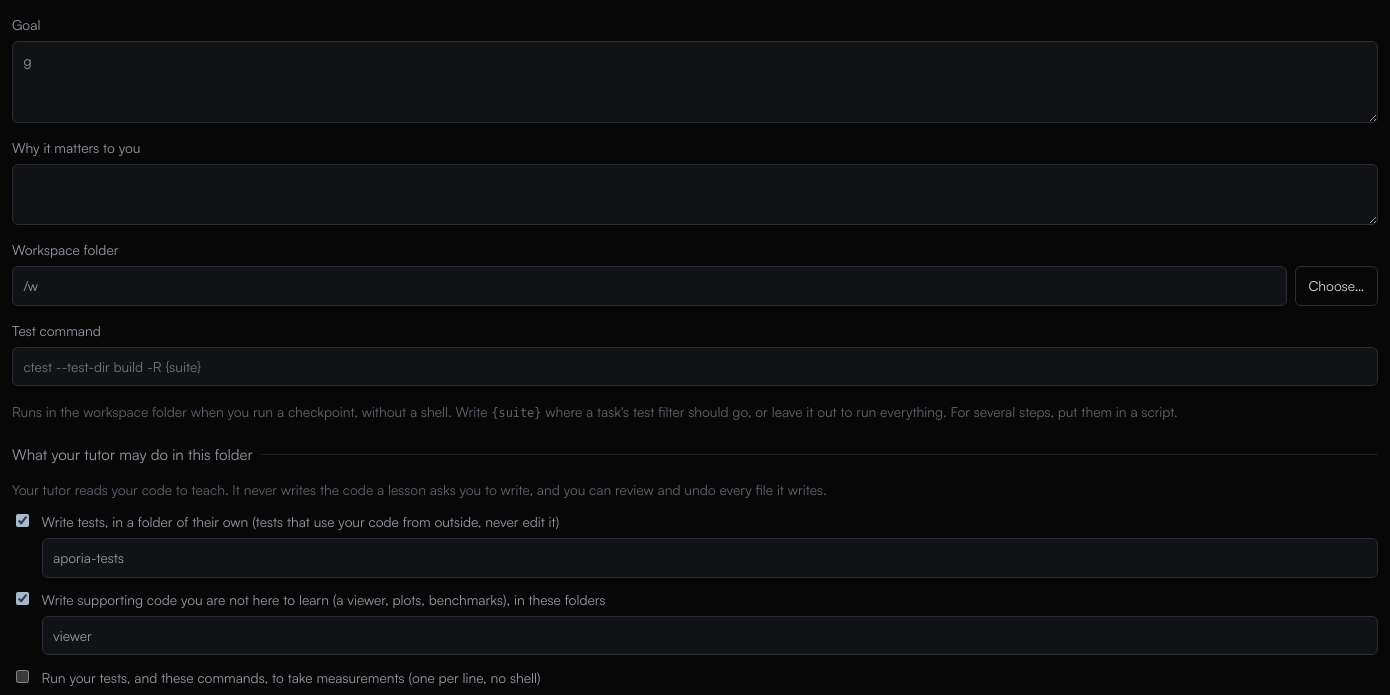
Test: what the tutor may do › is saved with the project settings
The image size is (1390, 695).
expect the field named "Tool folders" holds "viewer": met, box top-left (42, 616), bottom-right (1378, 655)
Click the checkbox labelled "Run your tests" at [22, 676], box top-left (16, 670), bottom-right (29, 682)
(page scrolled)
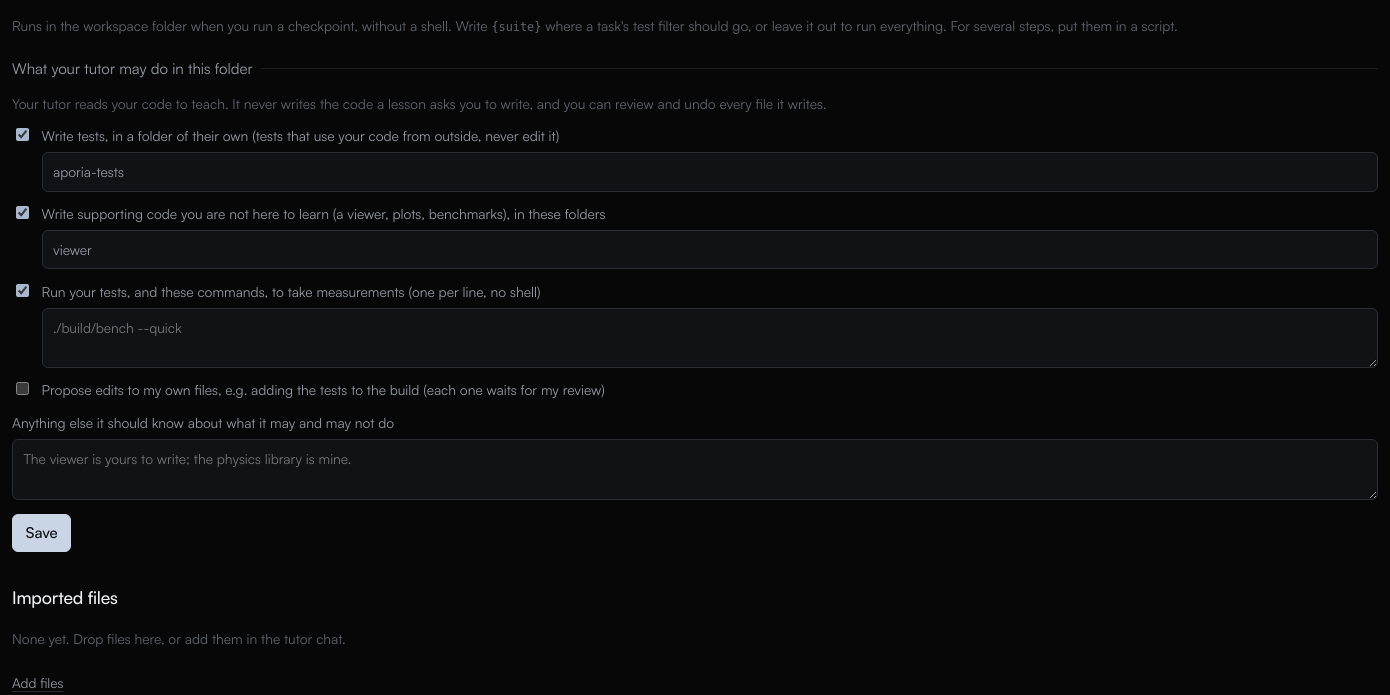
Click the button "Save" at [42, 533], box top-left (12, 514), bottom-right (71, 552)
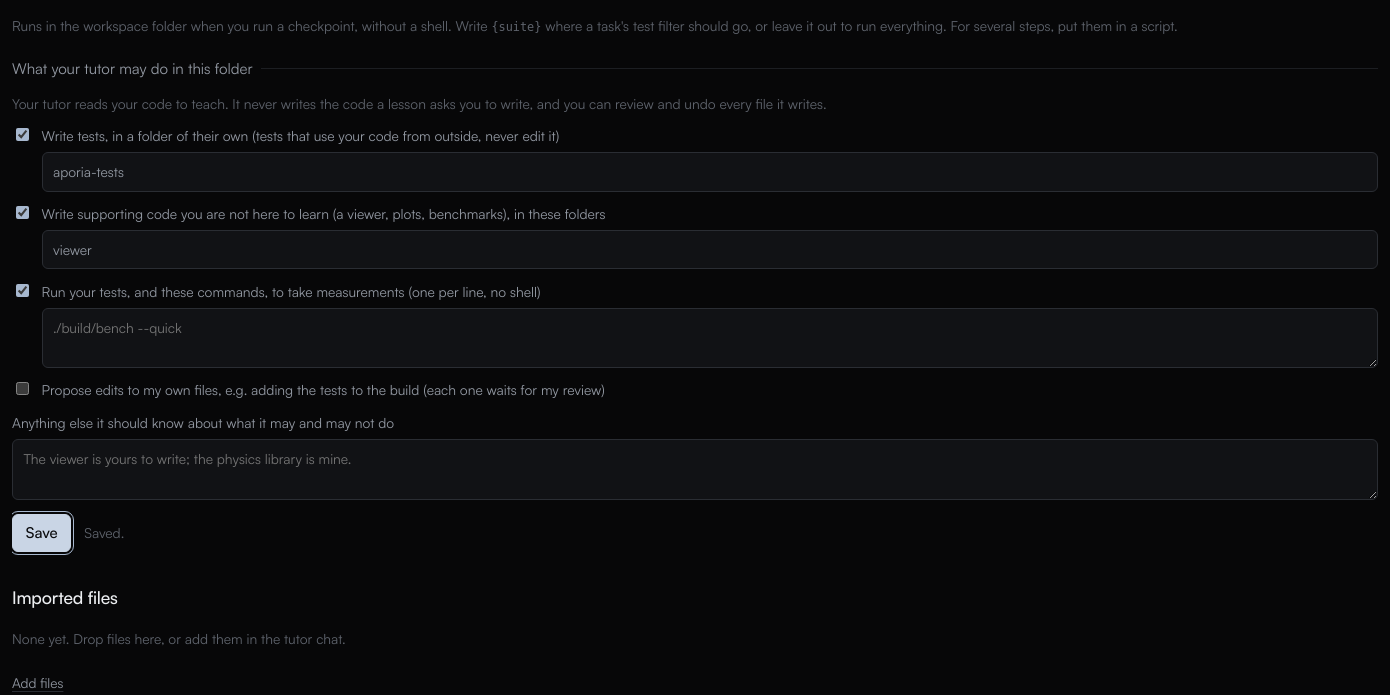
expect the text "Saved." is shown: met, box top-left (84, 522), bottom-right (124, 544)
Click the checkbox labelled "Run your tests" at [22, 290], box top-left (16, 284), bottom-right (29, 296)
(page scrolled)
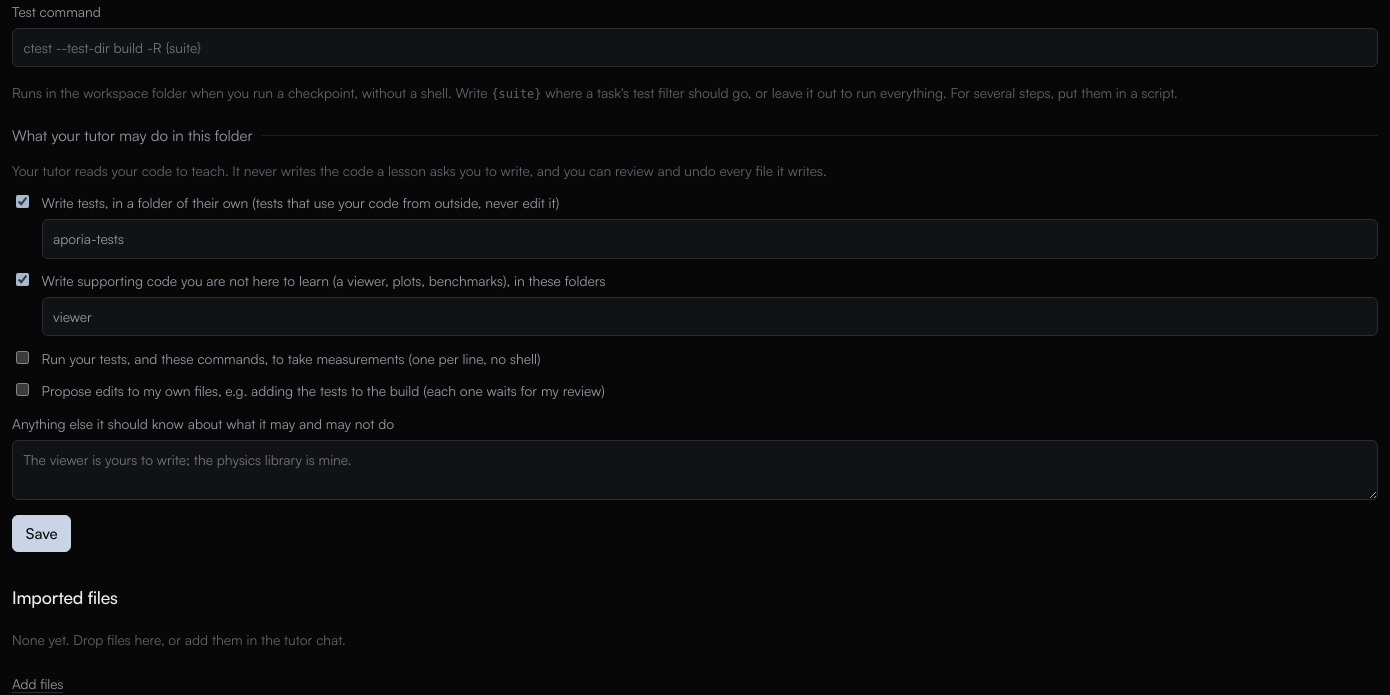
expect the text "Saved." is gone: met
